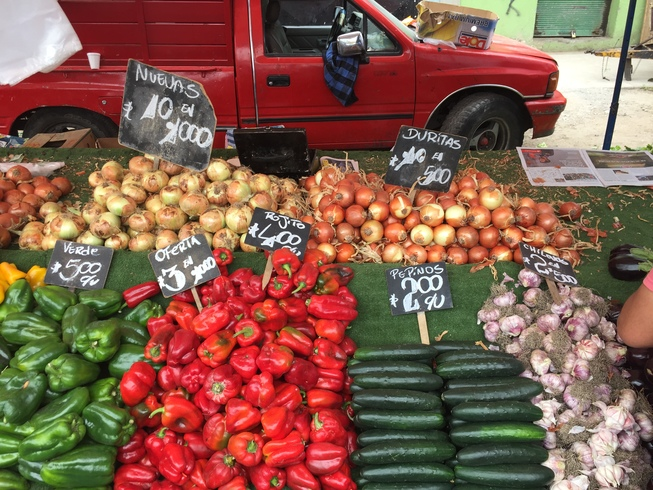precio: (114, 52, 216, 173), (144, 233, 242, 312), (385, 124, 469, 203), (238, 203, 319, 272), (45, 230, 120, 300), (382, 259, 461, 315), (517, 238, 585, 295)
